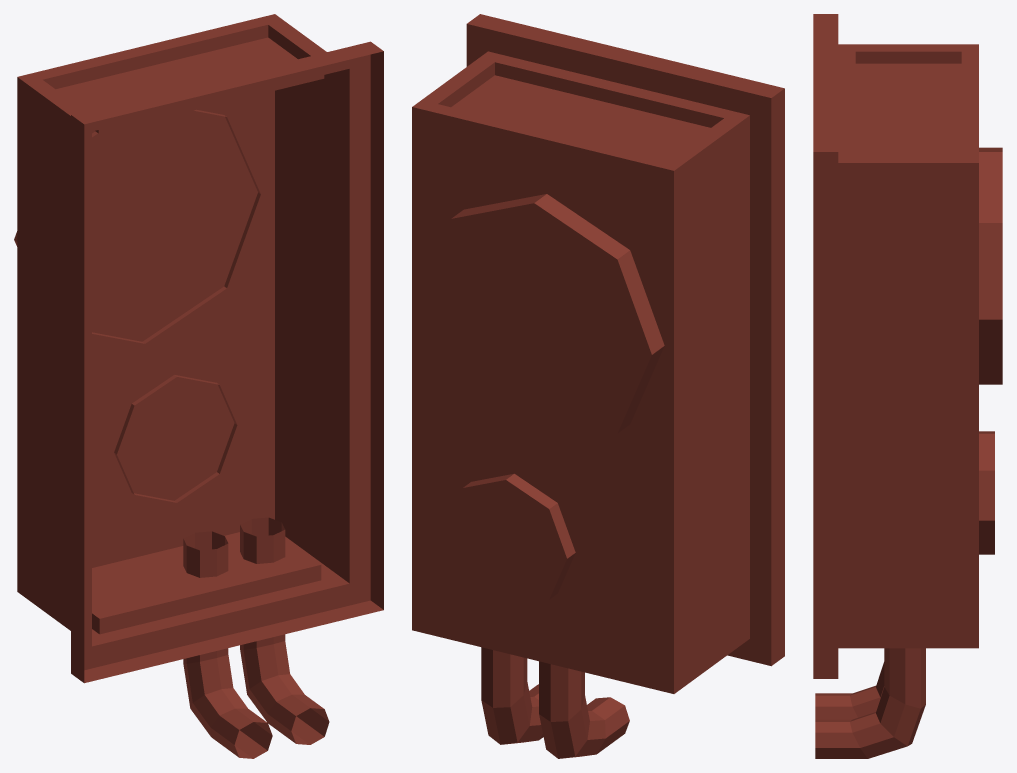
The model's file is AirConWall.fbx.
The picture shows the model from 3 angles, left to right: view 1: azimuth 30°, elevation 25°; view 2: azimuth 150°, elevation 25°; view 3: azimuth 270°, elevation 25°; orthographic projection. The views are drawn at different scales.
Visible parts, largest first — view 1: Plane.049; view 2: Plane.049; view 3: Plane.049.
Part boxes in pixels (x1,y1,x2,y2): Plane.049: (14, 14, 383, 758); Plane.049: (412, 14, 784, 758); Plane.049: (813, 14, 1002, 758).
Bounding box in the file's own units: 62.2 × 134 × 36.11.
